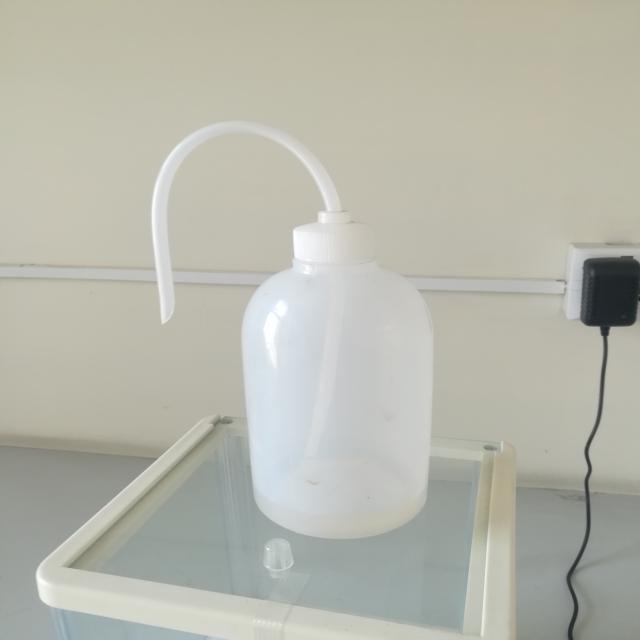Wash_Bottle: (117, 110, 466, 564)
